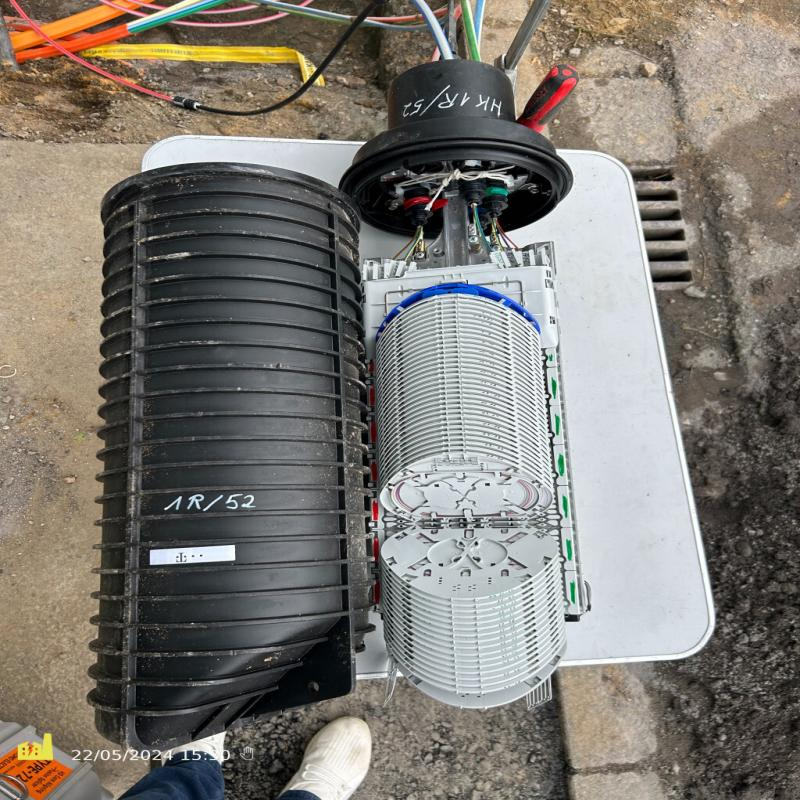NT-Muffen: (97, 69, 595, 715)
